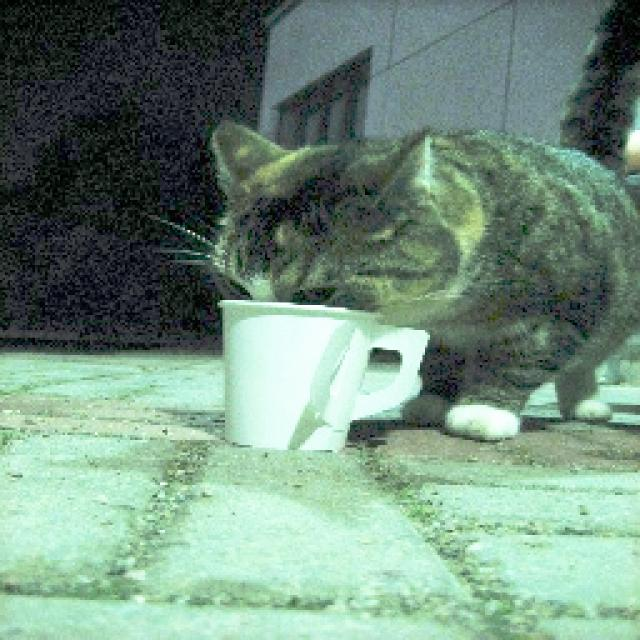cat: (199, 107, 637, 437)
